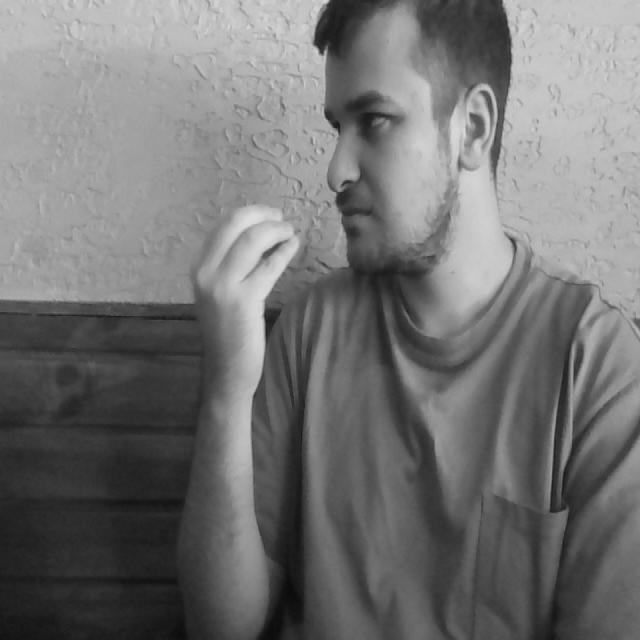Yemek: (188, 195, 388, 286)
